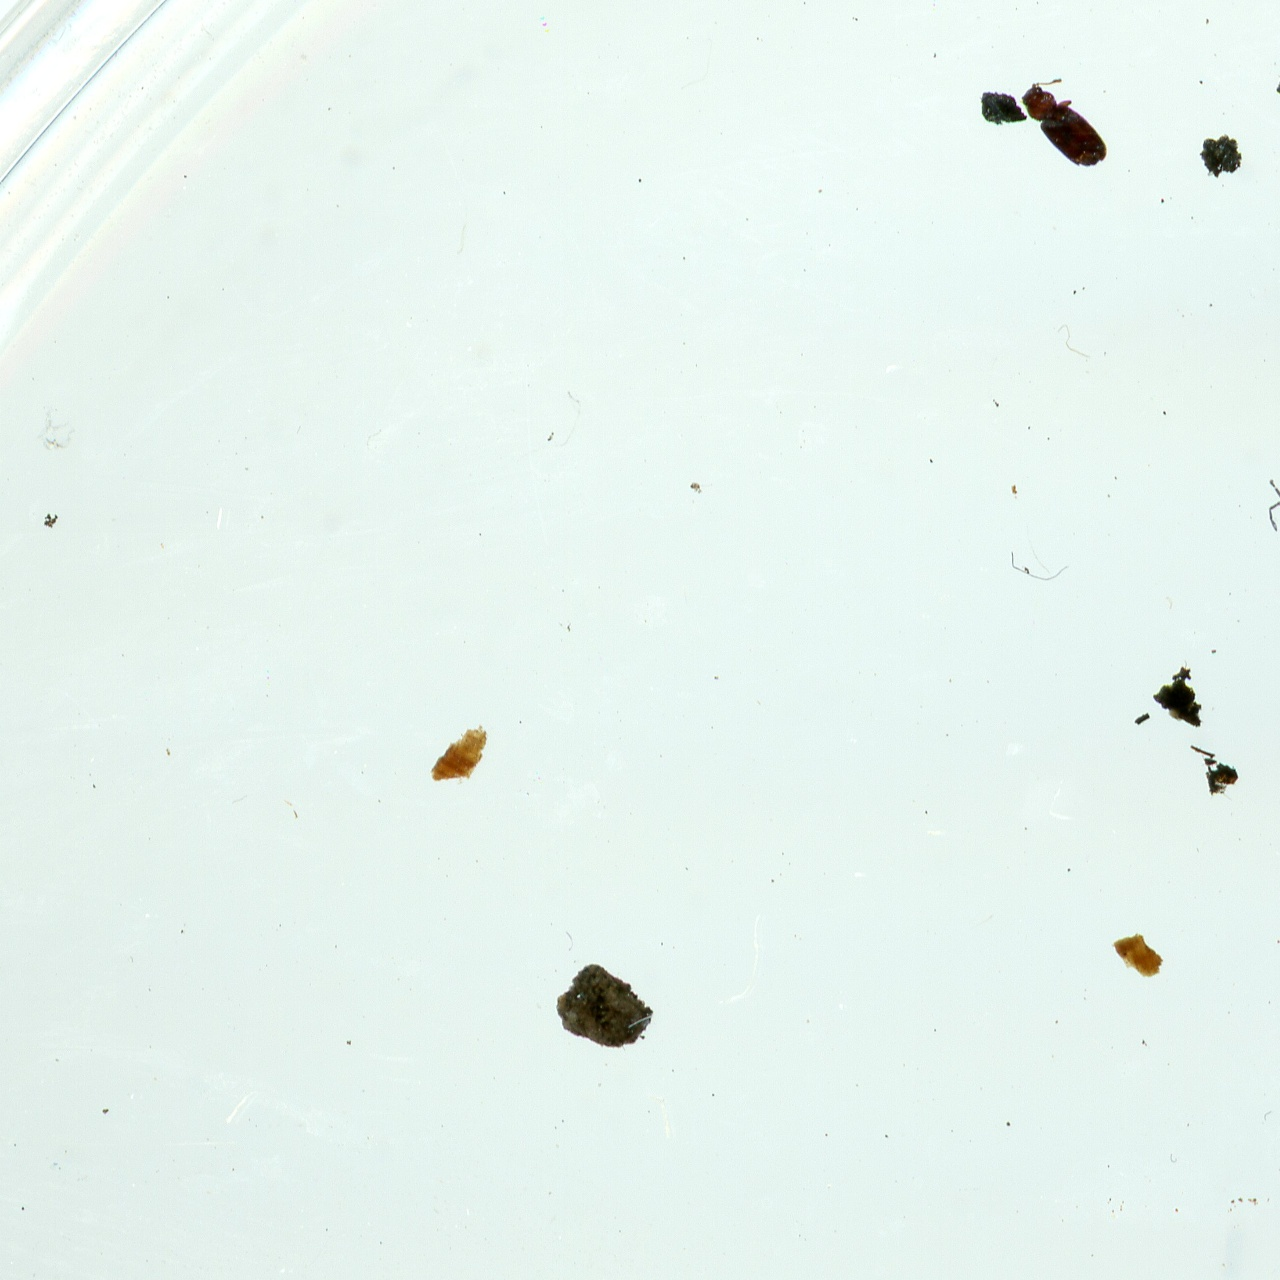arthropod: (1008, 60, 1119, 189), (1261, 472, 1280, 561)
